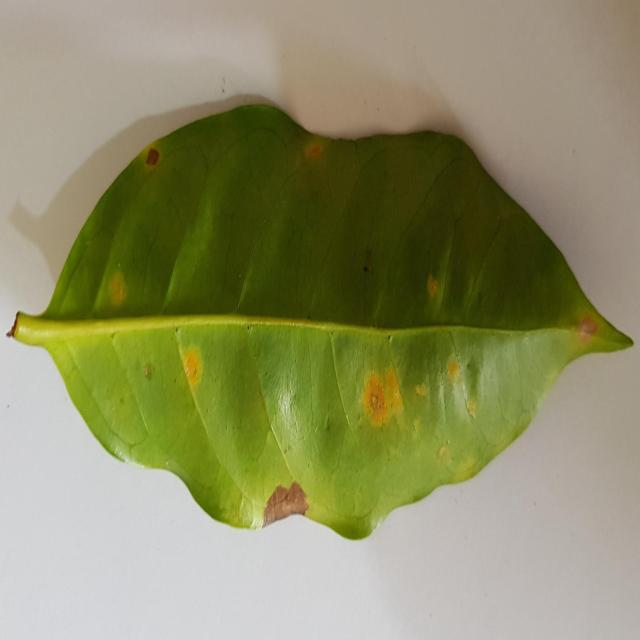phoma: (262, 481, 309, 527), (144, 146, 164, 169)
rust: (360, 366, 403, 428), (180, 346, 206, 396), (443, 348, 465, 399), (577, 306, 603, 343), (424, 265, 444, 302), (108, 274, 128, 306), (305, 137, 327, 161)
